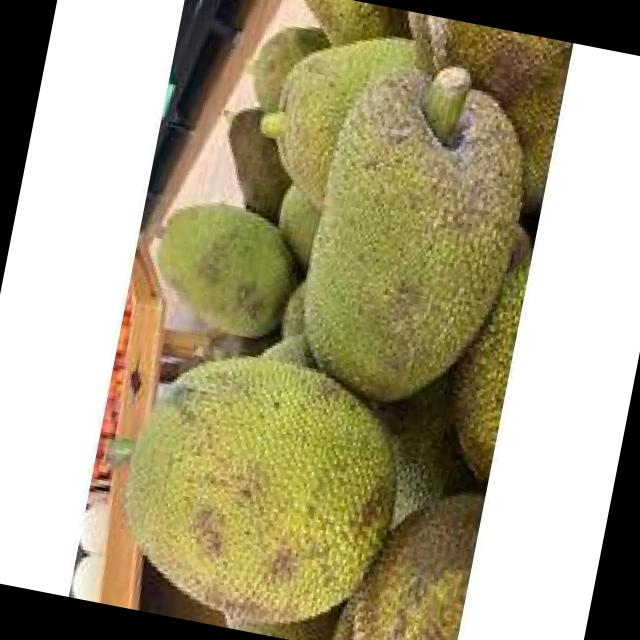Fruit: (182, 0, 568, 447), (80, 291, 449, 640)
